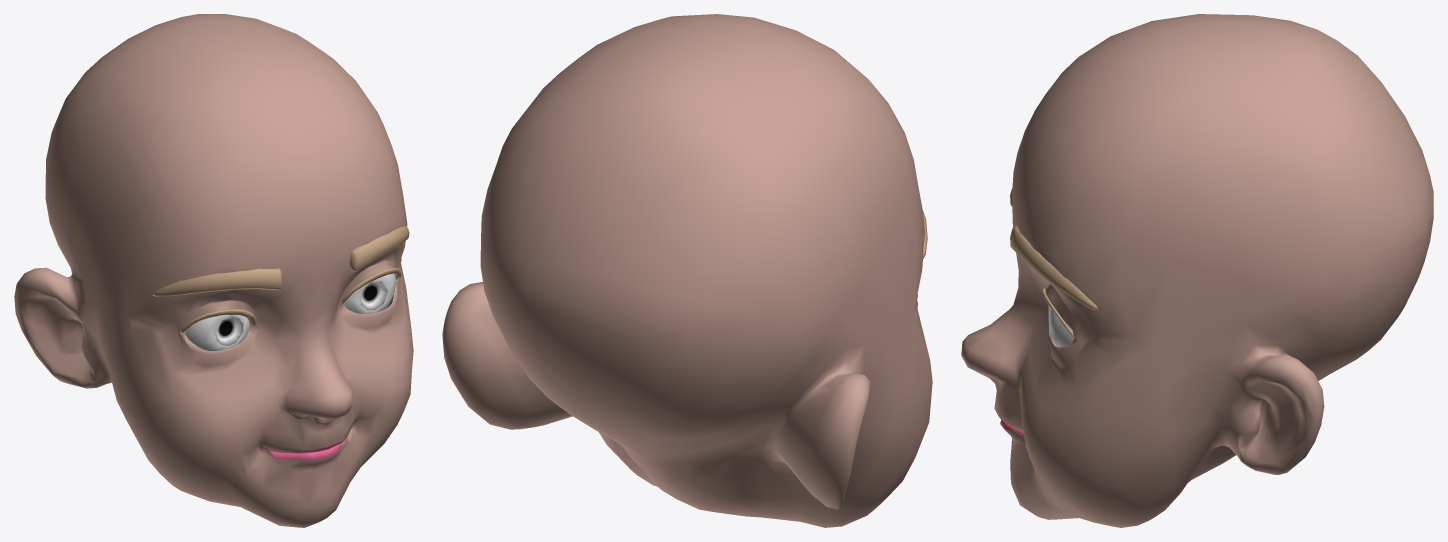
The picture shows the model from 3 angles, left to right: view 1: azimuth 30°, elevation 25°; view 2: azimuth 150°, elevation 25°; view 3: azimuth 270°, elevation 25°; orthographic projection. The views are drawn at different scales.
Visible parts, largest first — view 1: skin.001, brows.001, eyes.001, lashes.001; view 2: skin.001; view 3: skin.001, brows.001, eyes.001.
Boxes of the visible parts, x1=… form: skin.001: x1=14, y1=14, x2=413, y2=527; brows.001: x1=152, y1=226, x2=409, y2=296; eyes.001: x1=185, y1=273, x2=395, y2=350; lashes.001: x1=180, y1=268, x2=401, y2=333; skin.001: x1=442, y1=14, x2=932, y2=527; skin.001: x1=961, y1=14, x2=1433, y2=527; brows.001: x1=1010, y1=187, x2=1099, y2=310; eyes.001: x1=1048, y1=305, x2=1074, y2=347.
Bounding box in the file's own units: 1.65 × 2 × 1.79.
Materials: 10 (1 with a texture image).
